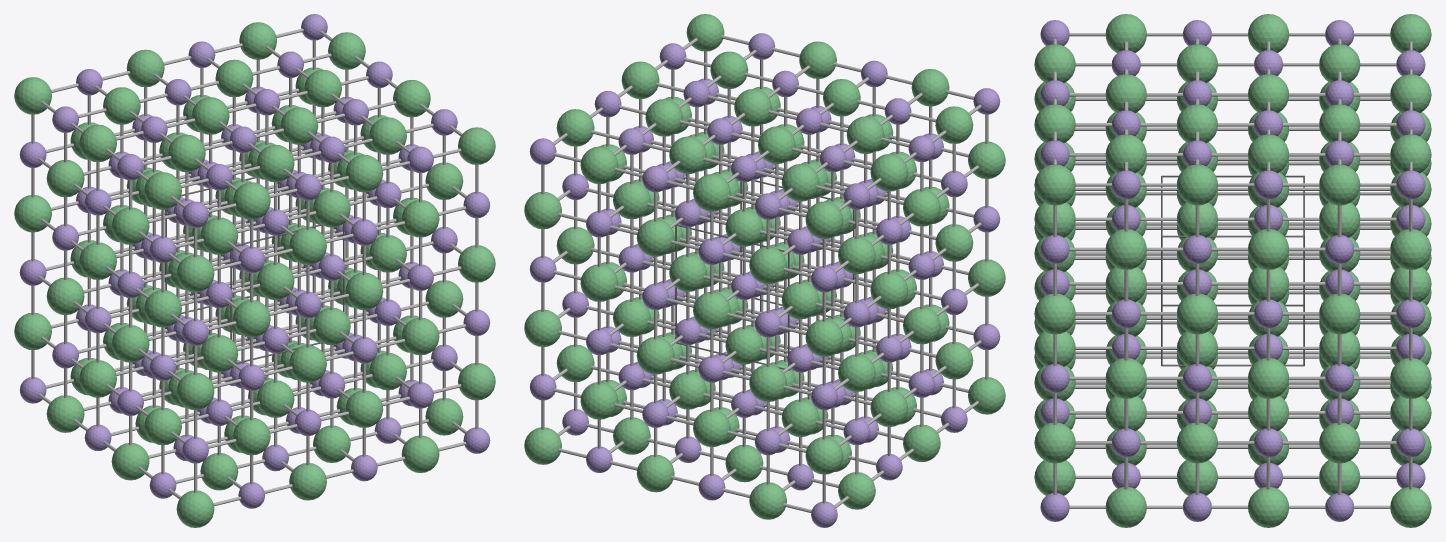
The model's file is NaCl_AR_3x3x3_teaching.glb.
3 renders of one model, left to right at view 1: azimuth 30°, elevation 25°; view 2: azimuth 150°, elevation 25°; view 3: azimuth 270°, elevation 25°, orthographic. The views are drawn at different scales.
Parts seen in each view (by area): view 1: Cl_ions, Na_ions, NaCl_nearest_neighbors, unit_cell_outline; view 2: Cl_ions, Na_ions, NaCl_nearest_neighbors, unit_cell_outline; view 3: Cl_ions, NaCl_nearest_neighbors, Na_ions, unit_cell_outline.
Boxes of the visible parts, x1,y1,x2,y2 form: Cl_ions: [14, 22, 495, 527]; Na_ions: [19, 14, 490, 508]; NaCl_nearest_neighbors: [31, 28, 478, 506]; unit_cell_outline: [165, 176, 344, 363]; Cl_ions: [524, 14, 1005, 519]; Na_ions: [529, 33, 1000, 527]; NaCl_nearest_neighbors: [541, 35, 988, 512]; unit_cell_outline: [675, 180, 854, 370]; Cl_ions: [1034, 14, 1431, 527]; NaCl_nearest_neighbors: [1053, 33, 1412, 508]; Na_ions: [1040, 20, 1425, 521]; unit_cell_outline: [1161, 175, 1304, 366].
Bounding box in the file's own units: 15.69 × 15.69 × 15.69.
